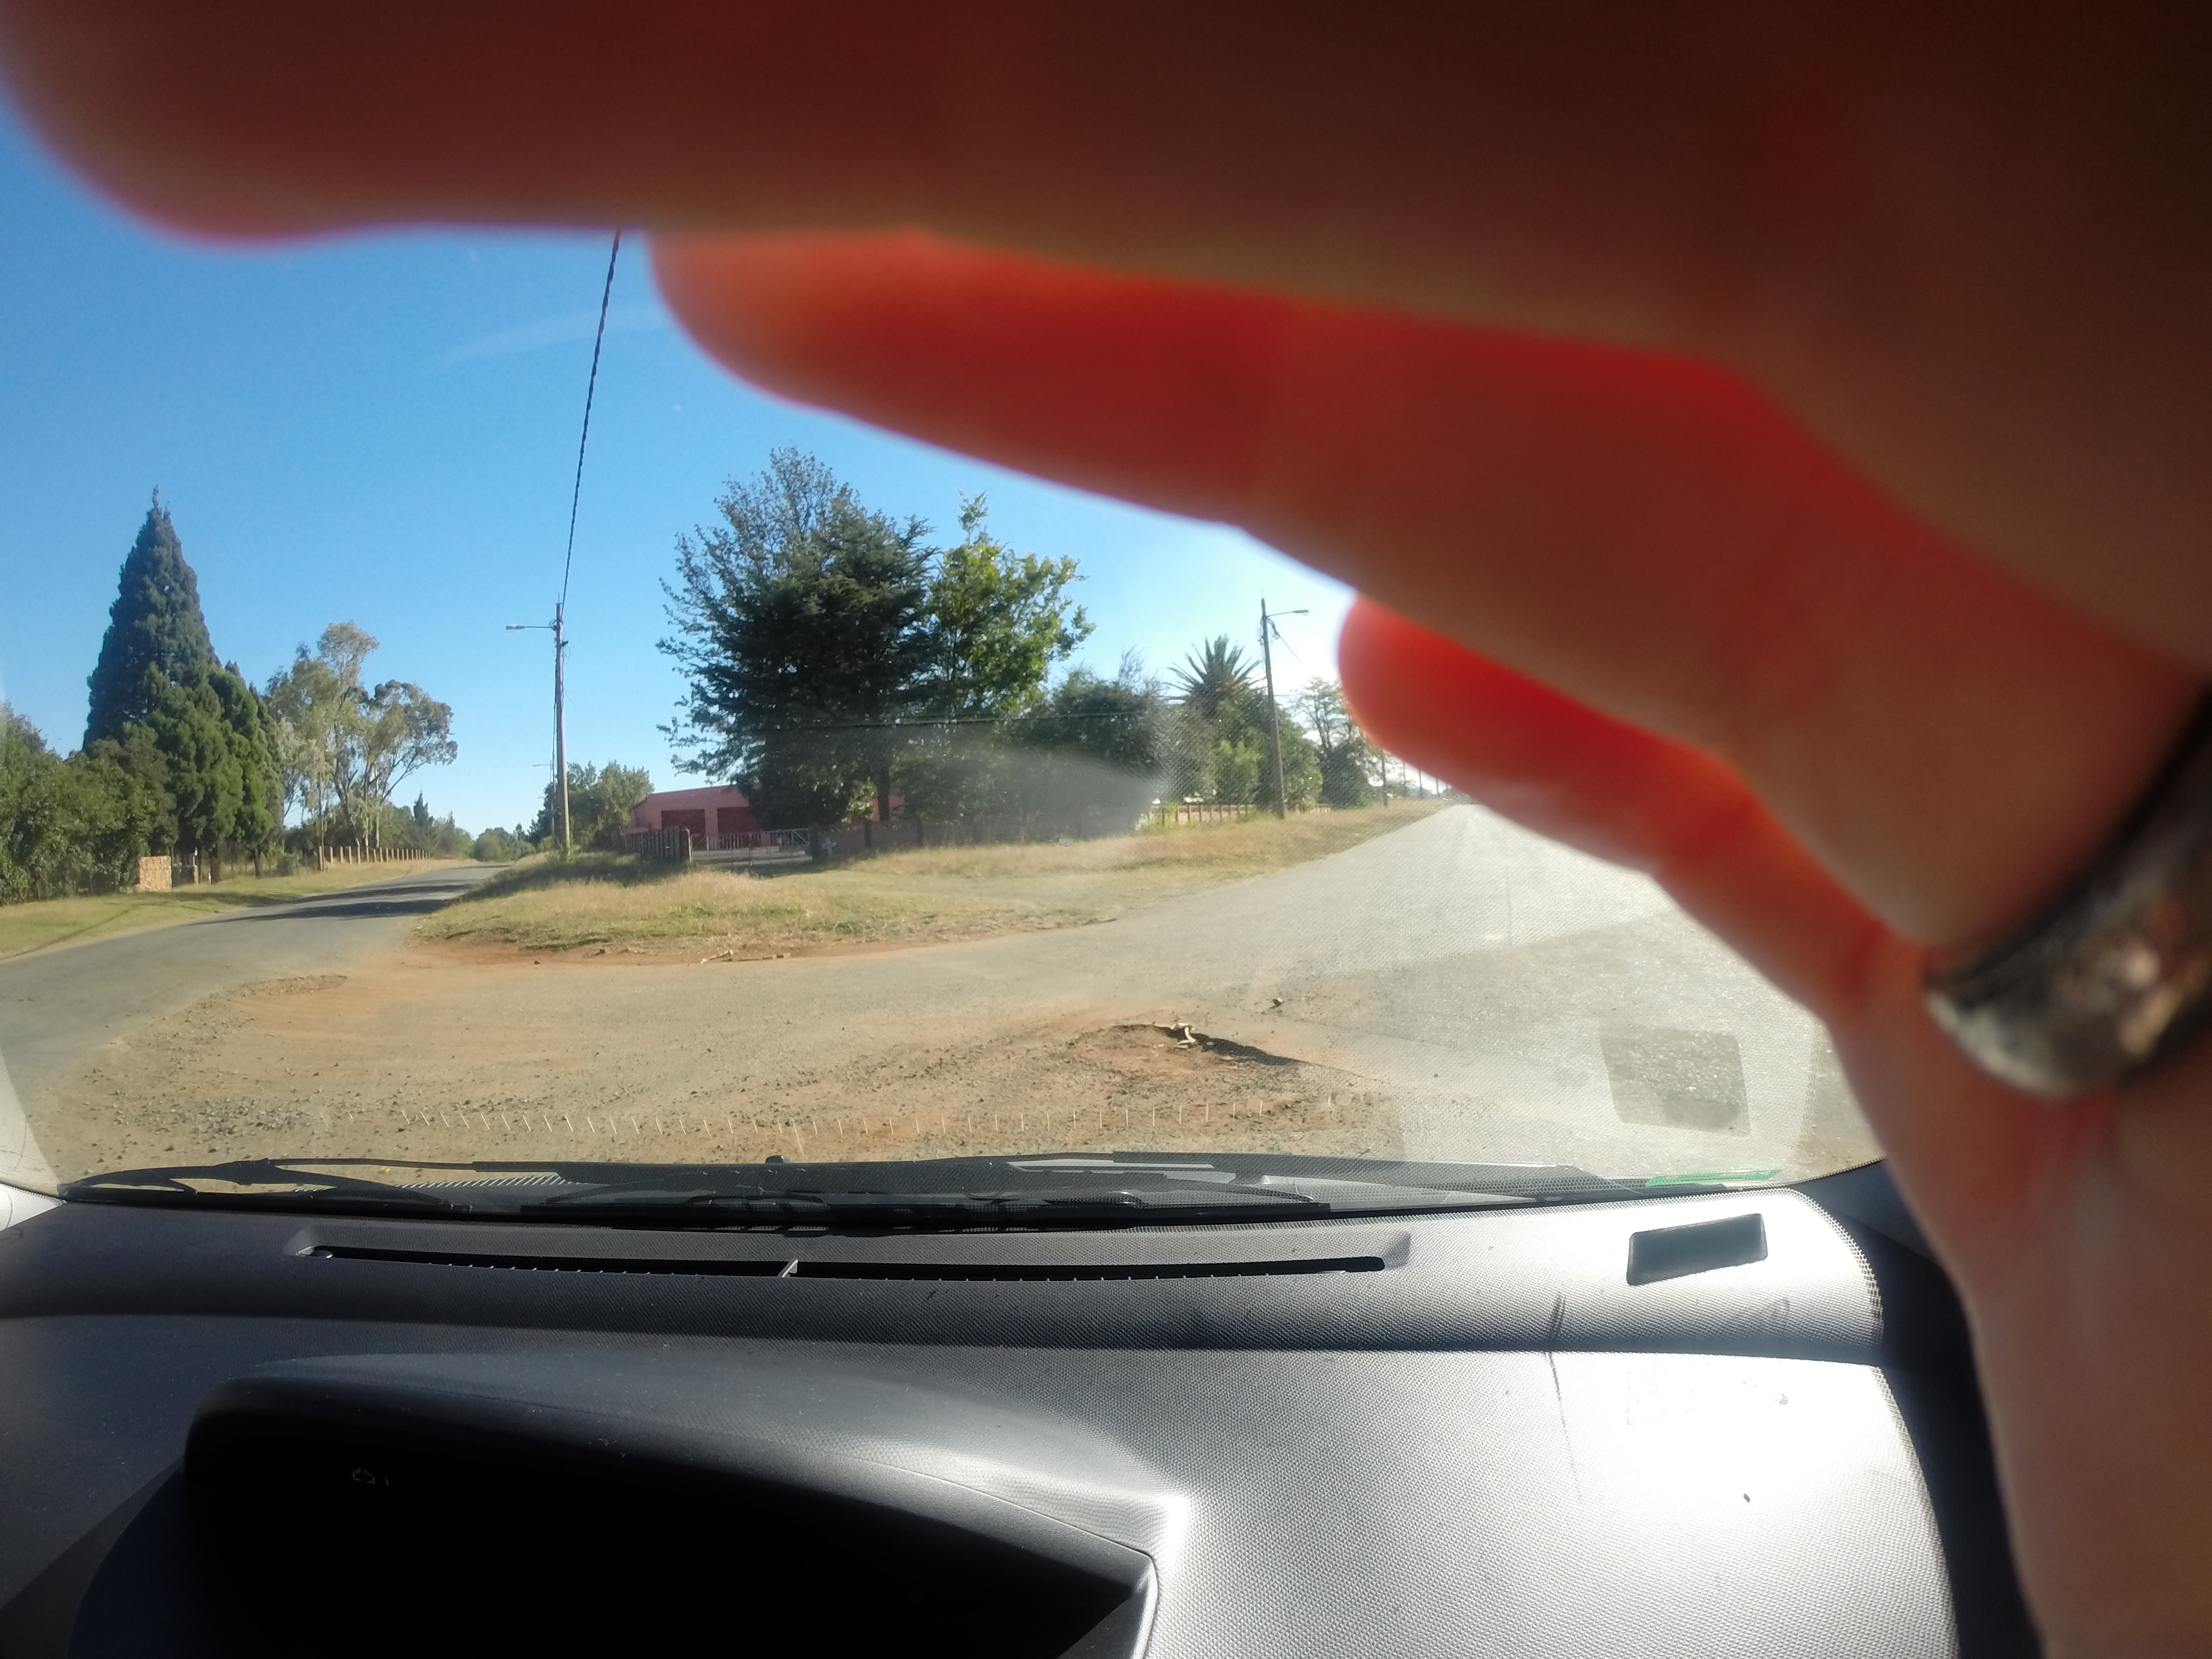pothole: (1010, 988, 1371, 1115)
